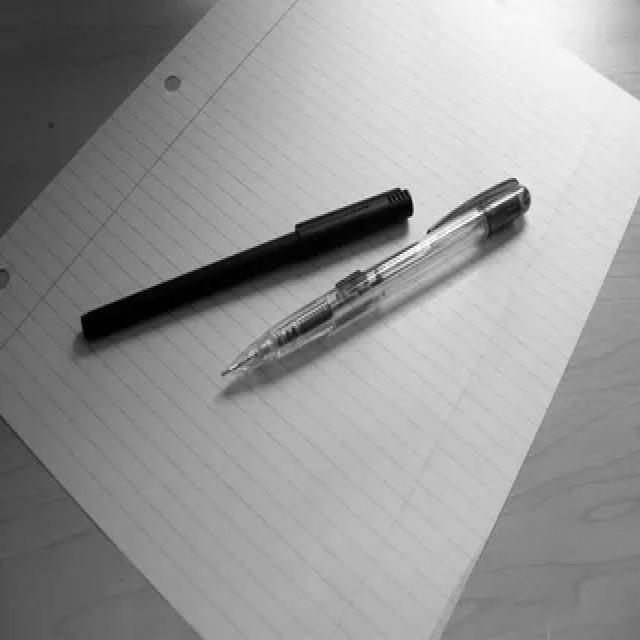pencil: (218, 166, 541, 406), (55, 175, 423, 354)
